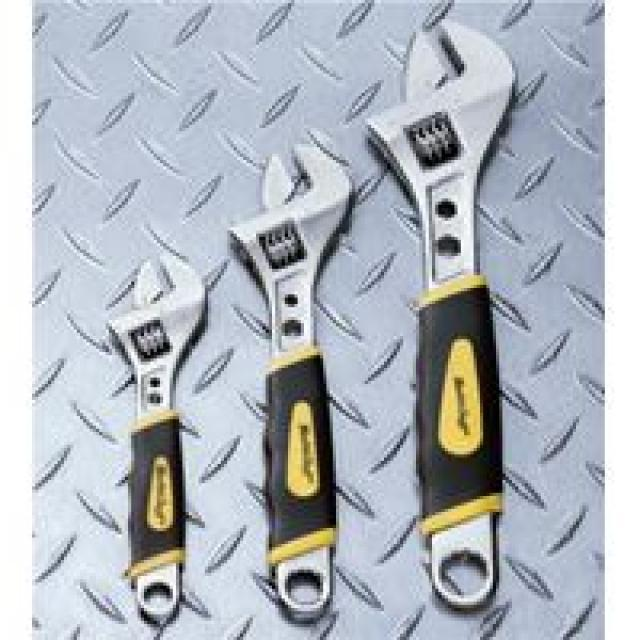wrench: (364, 10, 528, 608), (212, 137, 373, 624), (102, 248, 212, 620)
